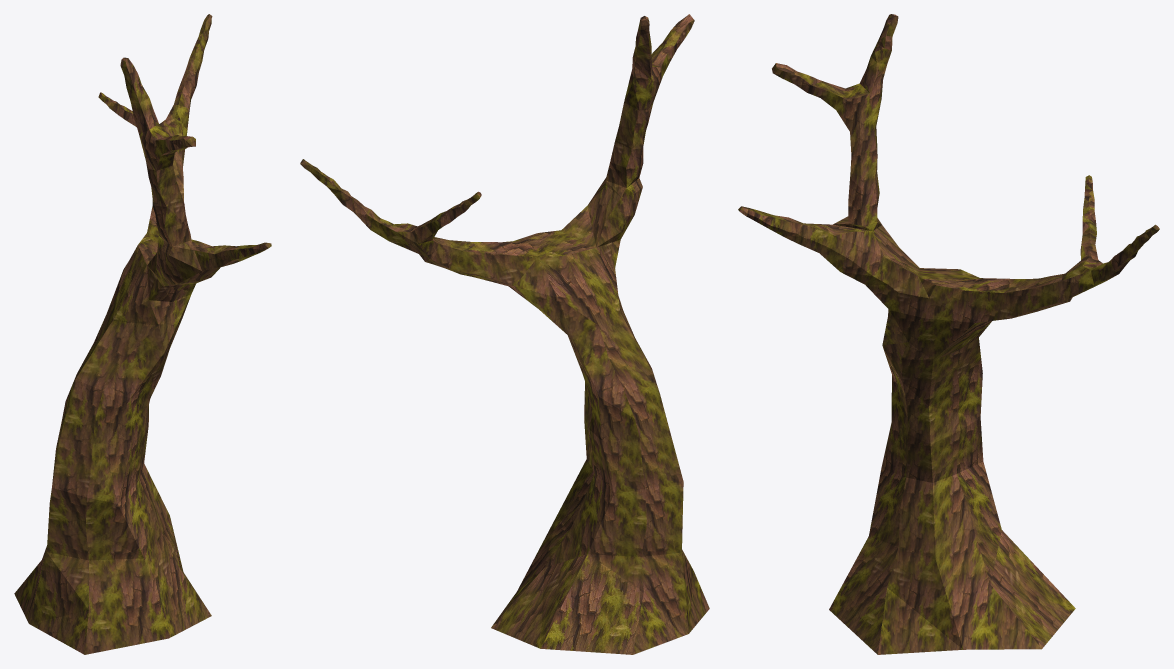
The model's file is dtree_bare_2.glb.
3 views of the same model, side by side, from view 1: azimuth 30°, elevation 25°; view 2: azimuth 150°, elevation 25°; view 3: azimuth 270°, elevation 25° (orthographic). The views are drawn at different scales.
Visible parts, largest first — view 1: model; view 2: model; view 3: model.
Part boxes in pixels (x1,y1,x2,y2): model: [14, 14, 271, 654]; model: [300, 14, 709, 654]; model: [738, 14, 1159, 654].
Size of the model in its own units: 2.55 by 4.98 by 3.15.
Materials: 1 (1 with a texture image).
